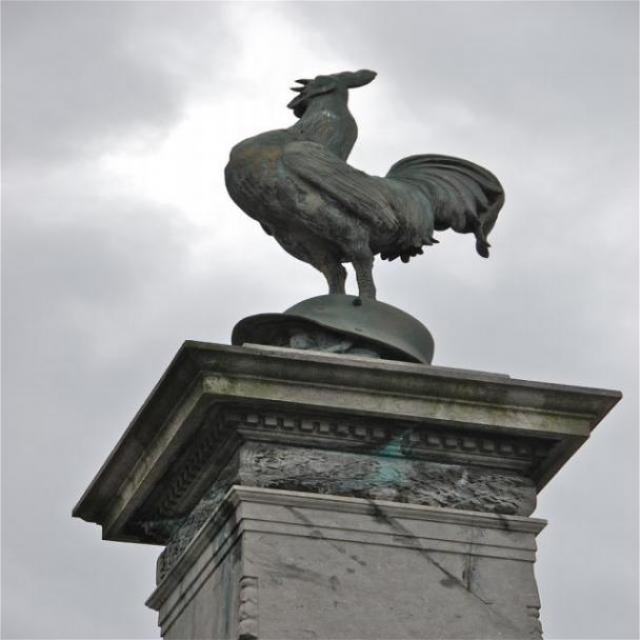Chicken: (246, 57, 518, 282)
